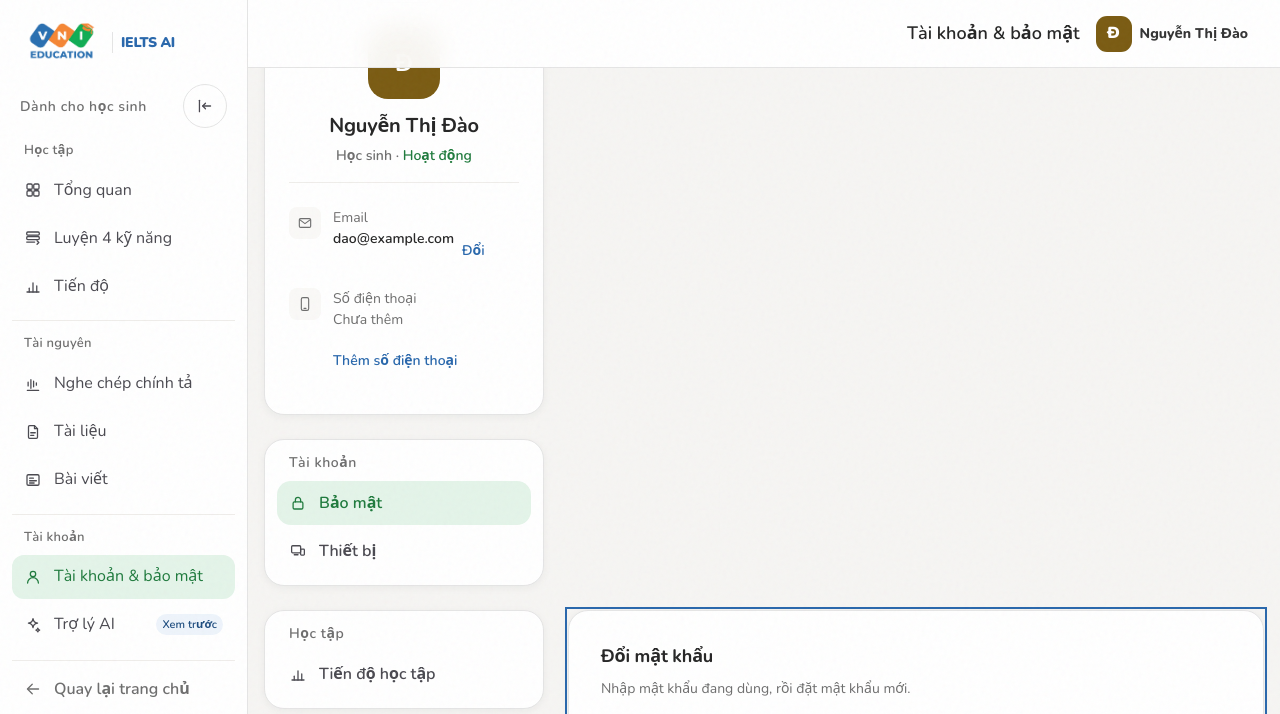
it: explains a number it cannot use instead of failing silently
The image size is (1280, 714).
(page scrolled)
Click the button "Thêm số điện thoại". click: (395, 360)
box: [333,338,457,382]
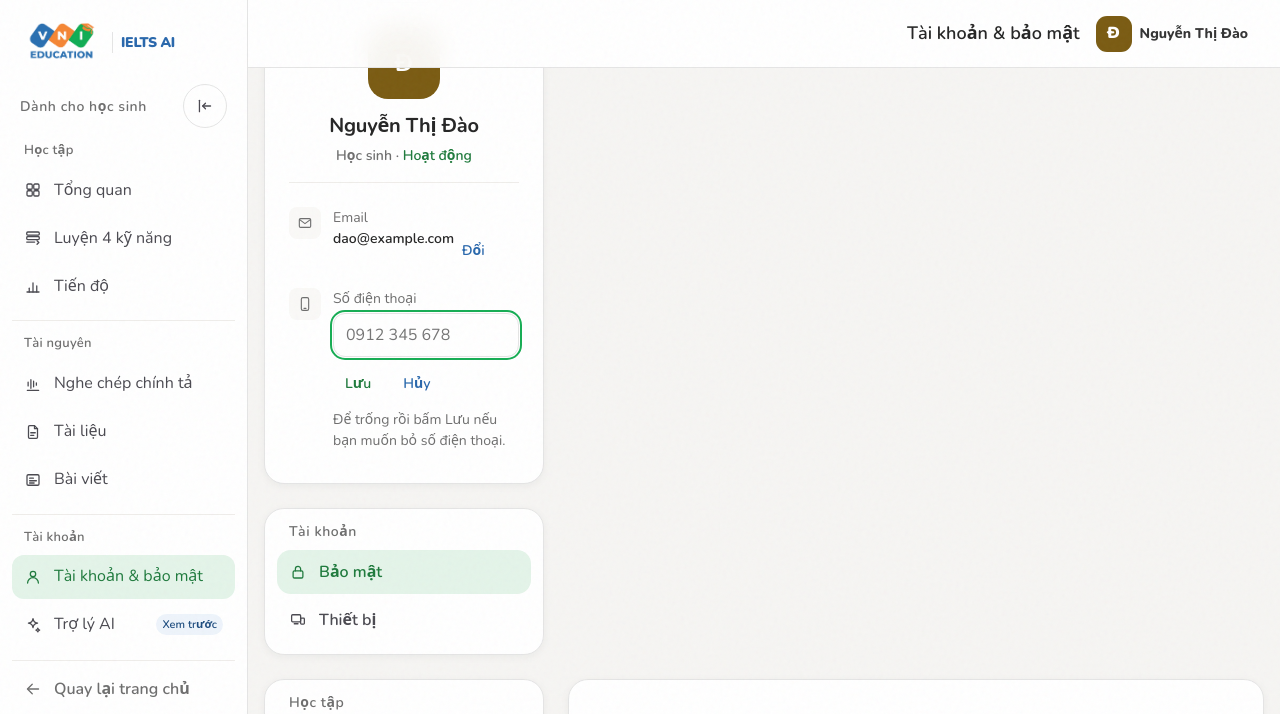
Type "123" into the field named "số điện thoại". click: (426, 335)
box: [333,313,519,357]
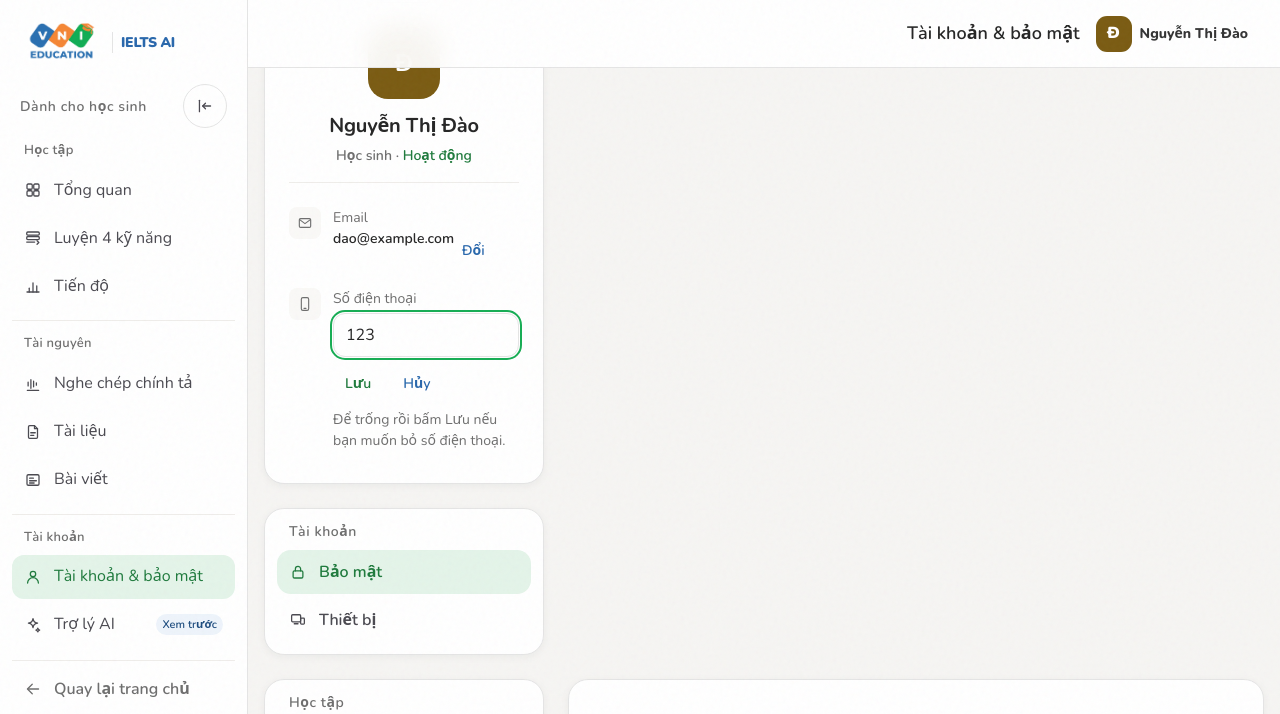
Click the button "Lưu". click: (358, 383)
box: [333,361,383,405]
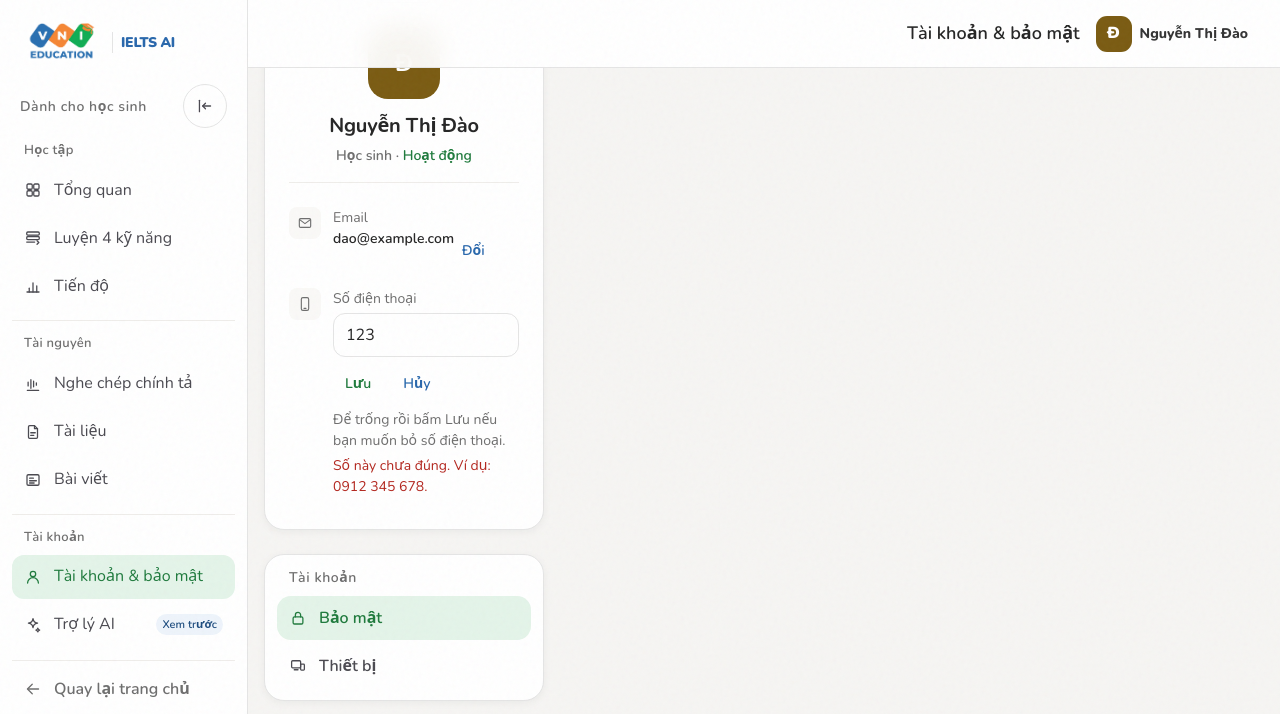
Check: the text "Số này chưa đúng. Ví dụ: 0912 345 678." is shown, box [333,456,491,496]
